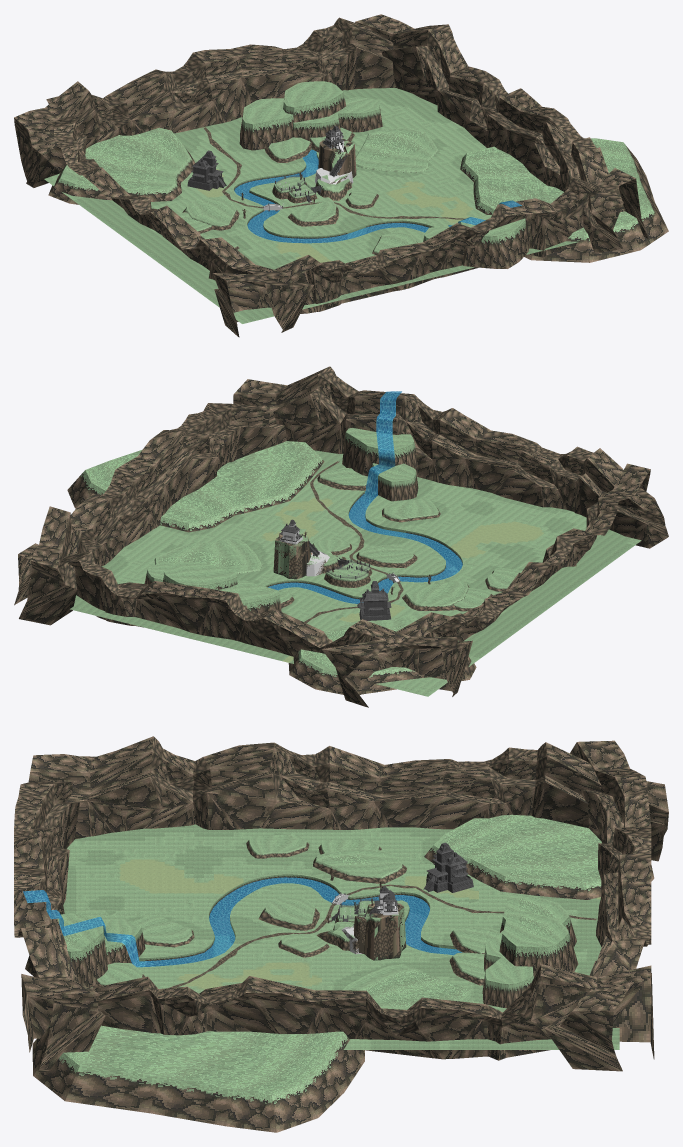
Rendered from Level2.glb.
3 views of the same model, one above another, from view 1: azimuth 30°, elevation 25°; view 2: azimuth 150°, elevation 25°; view 3: azimuth 270°, elevation 25° (orthographic). The views are drawn at different scales.
Parts seen in each view (by area): view 1: Plane.016, Cube.005, Cube.006, Cube.007, Plane.027, Cube.004, Plane.026, Plane.015, BézierCurve, Plane.019, Plane.022, Plane.025 (+12 smaller); view 2: Plane.016, Cube.007, Cube.006, Cube.005, Cube.004, Plane.027, BézierCurve, Plane.026, Plane.019, Plane.015, Plane.025, Plane.018 (+12 smaller); view 3: Plane.016, Cube.004, Cube.006, Plane.027, Cube.005, Cube.007, Plane.026, BézierCurve, Plane.025, Plane.015, Plane.019, Plane.006 (+16 smaller).
Boxes of the visible parts, x1,y1,x2,y2 form: Plane.016: [44, 88, 578, 323]; Cube.005: [14, 17, 395, 187]; Cube.006: [355, 14, 623, 253]; Cube.007: [212, 168, 648, 337]; Plane.027: [460, 138, 668, 262]; Cube.004: [46, 96, 313, 332]; Plane.026: [48, 127, 195, 204]; Plane.015: [355, 127, 438, 172]; BézierCurve: [234, 149, 521, 243]; Plane.019: [460, 215, 528, 268]; Plane.022: [239, 98, 293, 150]; Plane.025: [283, 81, 345, 122]; Plane.016: [70, 450, 641, 696]; Cube.007: [233, 366, 668, 548]; Cube.006: [19, 403, 286, 625]; Cube.005: [14, 543, 472, 696]; Cube.004: [322, 463, 650, 707]; Plane.027: [67, 441, 324, 532]; BézierCurve: [268, 391, 462, 603]; Plane.026: [288, 614, 476, 694]; Plane.019: [342, 428, 418, 476]; Plane.015: [154, 539, 262, 573]; Plane.025: [163, 562, 237, 589]; Plane.018: [371, 463, 418, 501]; Plane.016: [63, 824, 619, 1049]; Cube.004: [28, 736, 668, 861]; Cube.006: [21, 964, 654, 1060]; Plane.027: [32, 989, 364, 1132]; Cube.005: [544, 740, 651, 1071]; Cube.007: [14, 756, 105, 1072]; Plane.026: [424, 814, 654, 899]; BézierCurve: [23, 877, 462, 967]; Plane.025: [499, 910, 578, 976]; Plane.015: [342, 964, 474, 1009]; Plane.019: [25, 913, 107, 988]; Plane.006: [313, 848, 406, 883].
Size of what is drawn, in the model's own units: 485 by 80.17 by 435.
Materials: 12 (11 with a texture image).
